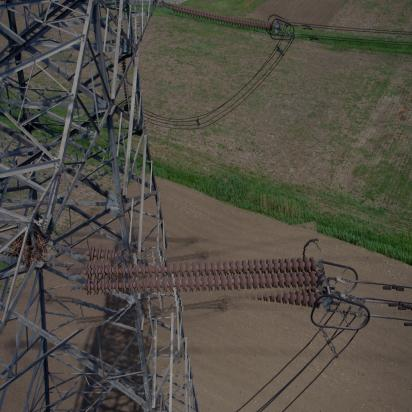insulator: (70, 234, 327, 321), (173, 2, 273, 33)
